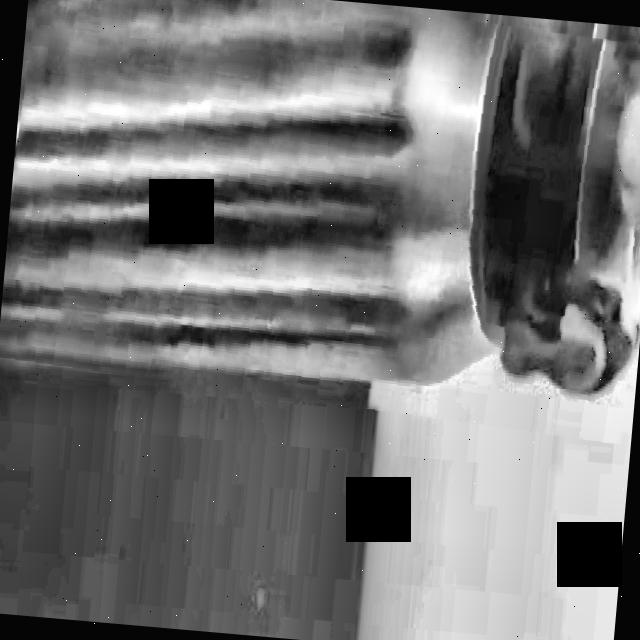bottle: (0, 0, 640, 396)
